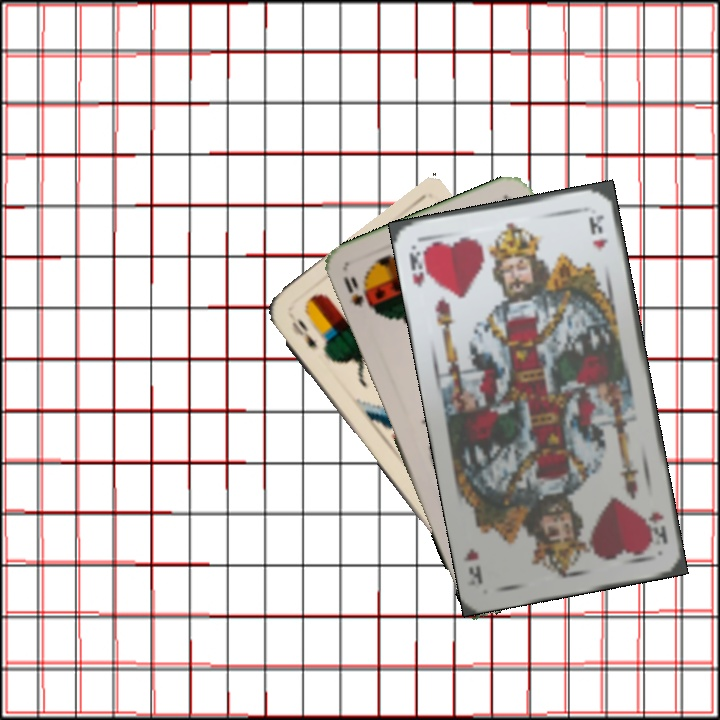EO: (287, 314, 320, 351)
HK: (405, 241, 434, 290), (641, 507, 671, 551)
SO: (339, 272, 374, 313)
